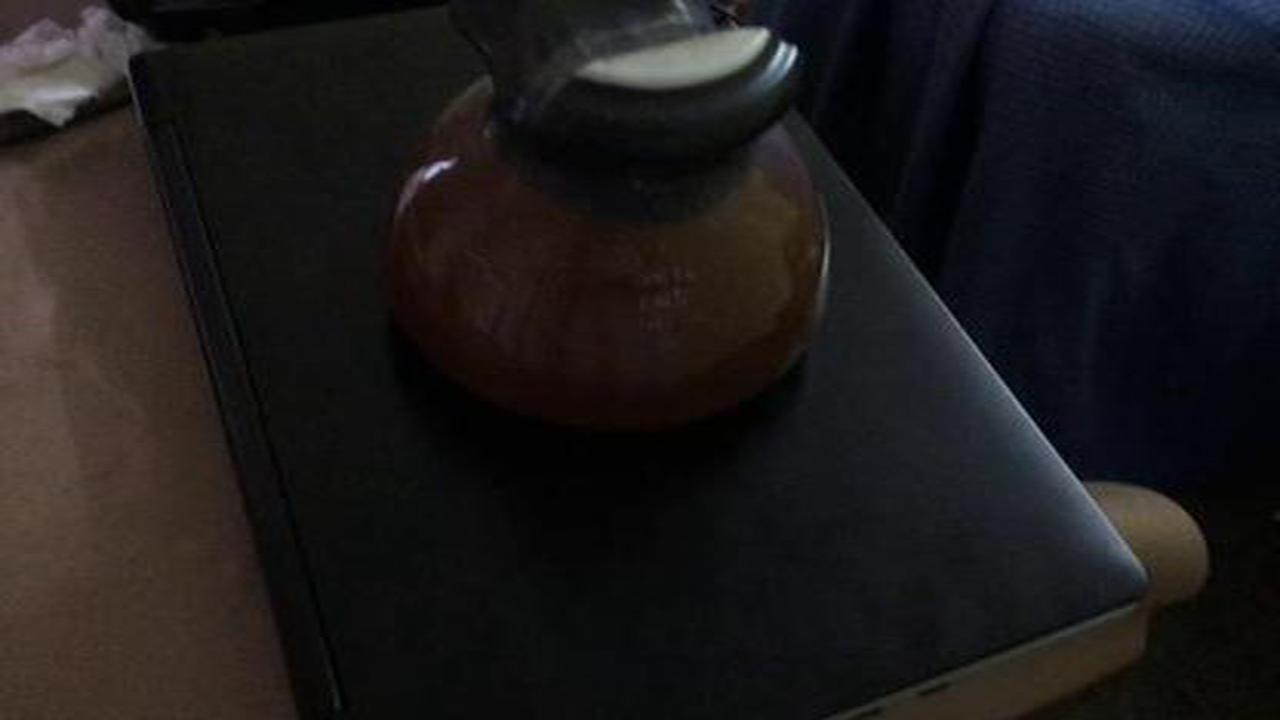insulator_pin: (372, 6, 847, 438)
